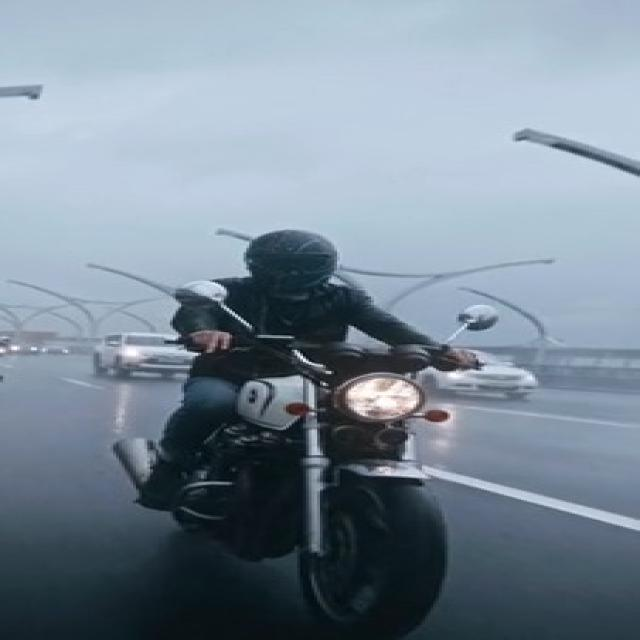Helmet_Wearer: (235, 228, 350, 300)
Jacket_Wearer: (178, 270, 434, 350)
Person: (165, 227, 445, 507)
